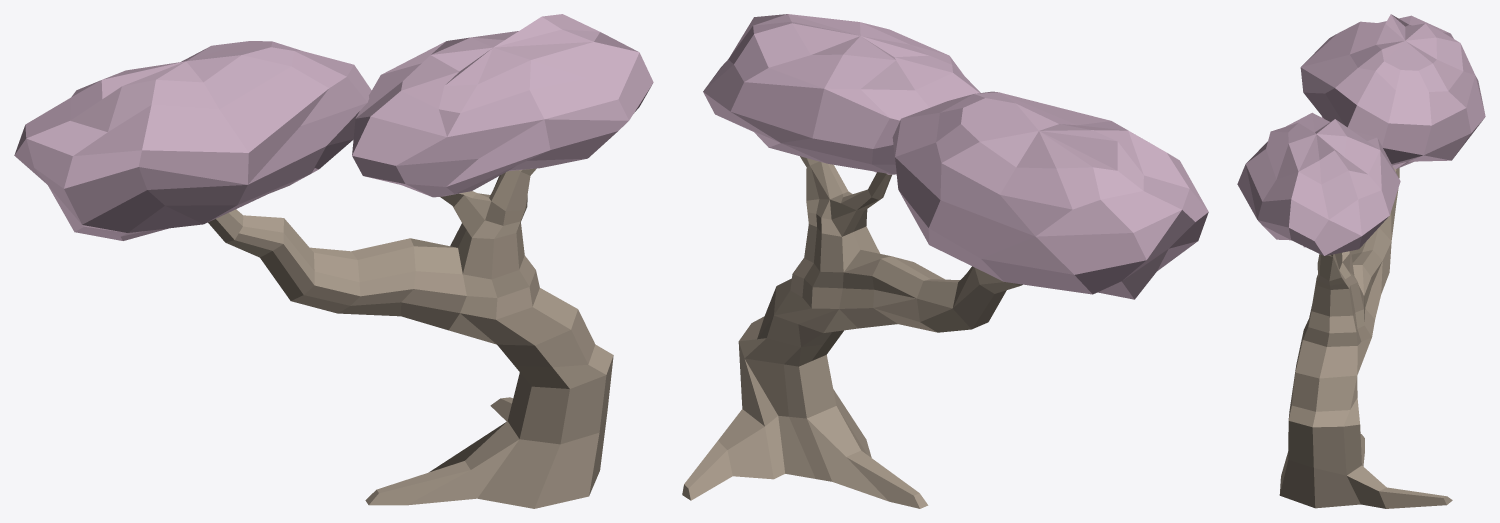
File: ER_Asset_Tree06.fbx
3 renders of one model, left to right at view 1: azimuth 30°, elevation 25°; view 2: azimuth 150°, elevation 25°; view 3: azimuth 270°, elevation 25°, orthographic. The views are drawn at different scales.
Parts seen in each view (by area): view 1: pCylinder69; view 2: pCylinder69; view 3: pCylinder69.
Boxes of the visible parts, x1,y1,x2,y2 form: pCylinder69: [14, 14, 653, 508]; pCylinder69: [682, 14, 1208, 508]; pCylinder69: [1237, 14, 1485, 508].
Size of the model in its own units: 4.06 by 3.24 by 2.1.
